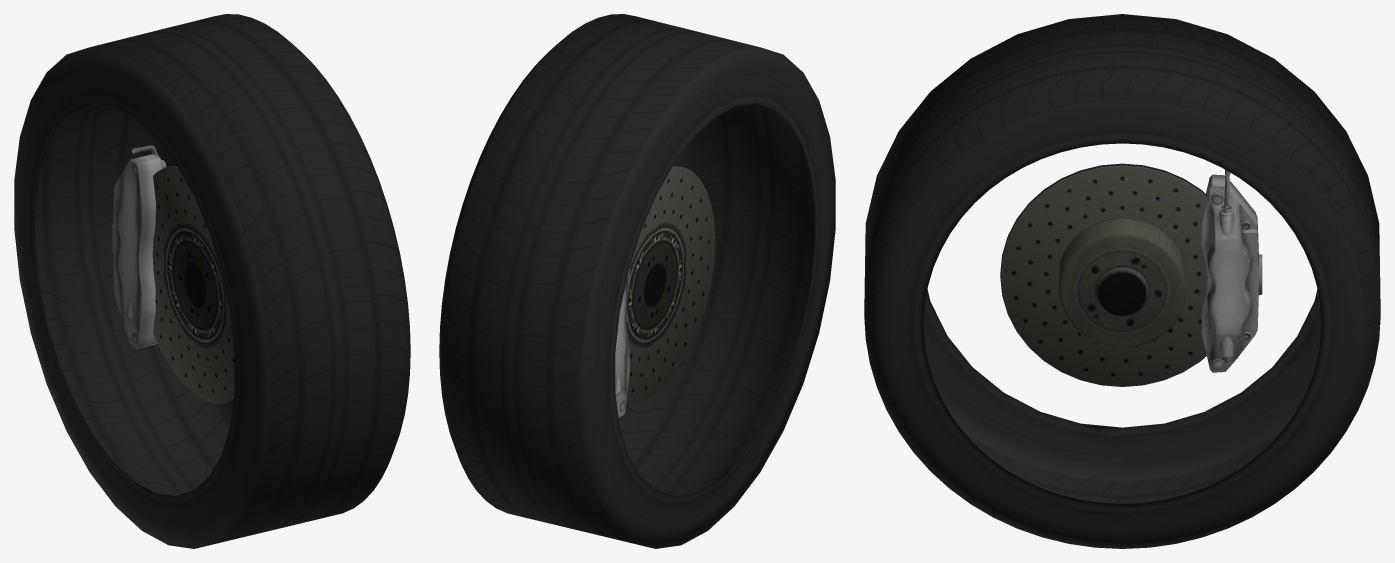
File: 19inches.fbx
3 views of the same model, side by side, from view 1: azimuth 30°, elevation 25°; view 2: azimuth 150°, elevation 25°; view 3: azimuth 270°, elevation 25° (orthographic).
Visible parts, largest first — view 1: 19inches, disk, brake_disk; view 2: 19inches, disk, brake_disk; view 3: 19inches, disk, brake_disk.
Boxes of the visible parts, x1,y1,x2,y2 form: 19inches: (14,14,410,548); disk: (152,165,234,403); brake_disk: (111,145,166,348); 19inches: (439,14,835,548); disk: (626,165,715,403); brake_disk: (615,268,629,417); 19inches: (864,14,1380,548); disk: (1000,163,1207,386); brake_disk: (1201,169,1262,372).
Bounding box in the file's own units: 0.2248 × 0.6198 × 0.6198.
